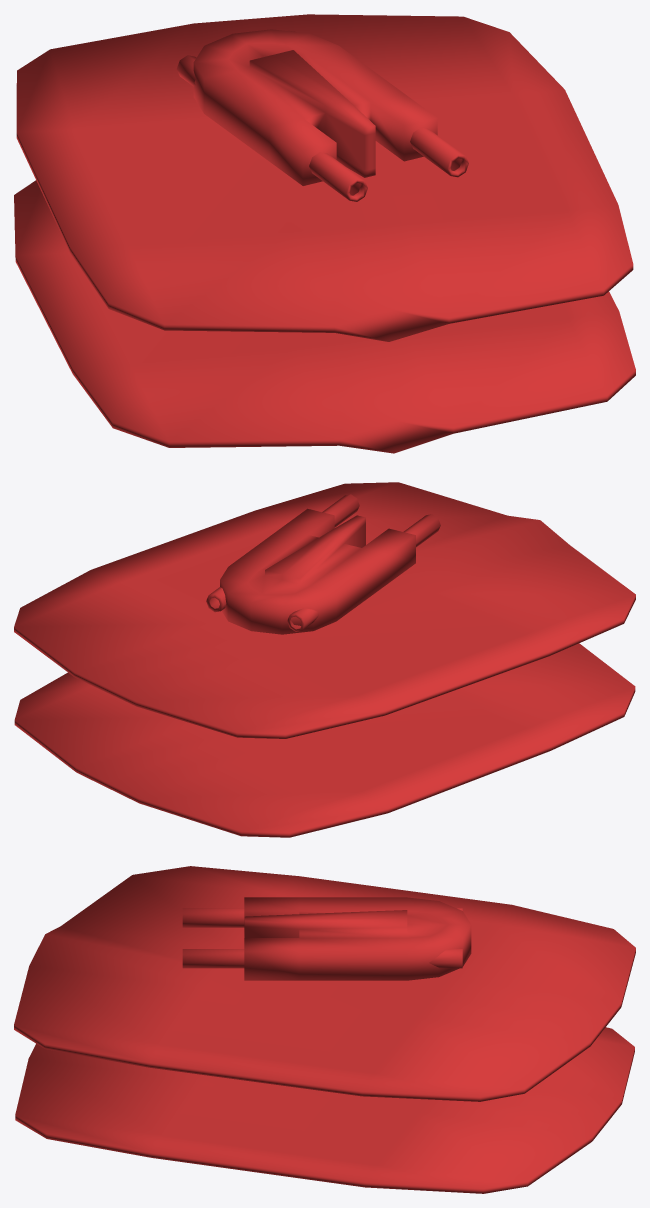
File: SkinTact_Low5.fbx
The picture shows the model from 3 angles, top to bottom: view 1: azimuth 30°, elevation 25°; view 2: azimuth 150°, elevation 25°; view 3: azimuth 270°, elevation 25°; orthographic projection. The views are drawn at different scales.
Parts seen in each view (by area): view 1: Cylinder.002, Cylinder.001, Cylinder.000; view 2: Cylinder.002, Cylinder.001, Cylinder.000; view 3: Cylinder.002, Cylinder.001, Cylinder.000.
Boxes of the visible parts, box(x1,y1,x2,y2) form: Cylinder.002: box(16, 14, 633, 341); Cylinder.001: box(14, 180, 635, 453); Cylinder.000: box(176, 29, 468, 201); Cylinder.002: box(14, 482, 635, 738); Cylinder.001: box(14, 643, 635, 837); Cylinder.000: box(206, 494, 440, 634); Cylinder.002: box(14, 866, 635, 1101); Cylinder.001: box(15, 1027, 634, 1193); Cylinder.000: box(182, 897, 471, 980).
Bounding box in the file's own units: 55.54 × 19.64 × 62.93.
